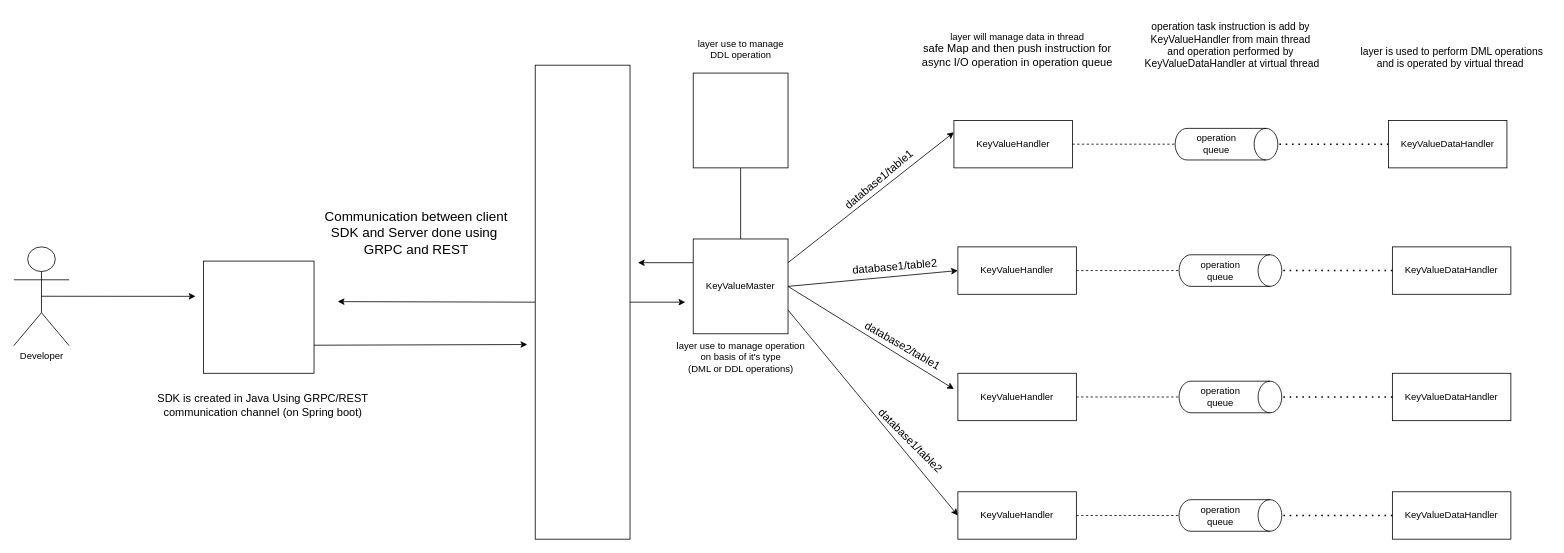
Image size: 1564x553. Some labels were removed from this diagram. Here are the shapes that lost their labels. From the top down, the box of each, then its label:
(692, 72, 788, 168): KeyValueDataMaster
(203, 260, 314, 373): Client SDK
(534, 64, 630, 539): Key Value Store Server Client APIs
